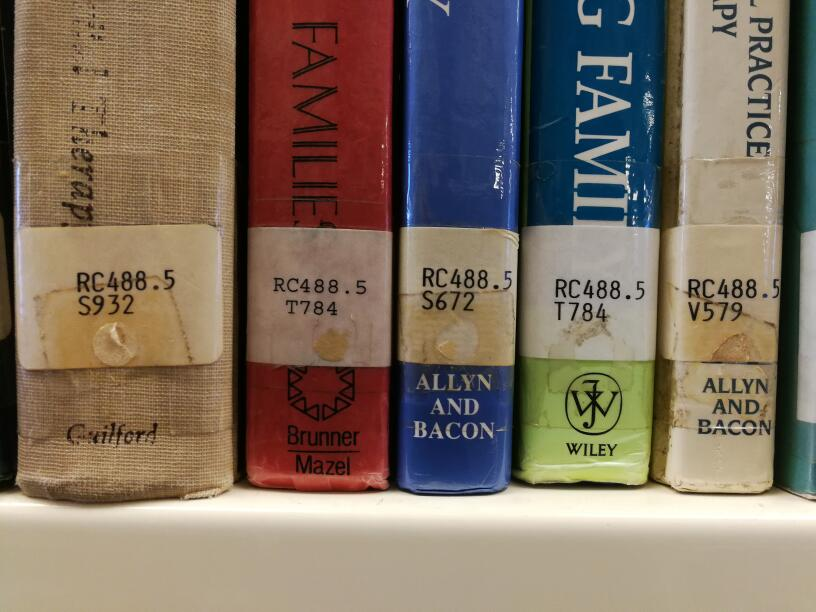booklabel: (73, 266, 176, 316), (683, 276, 782, 323), (419, 266, 512, 314), (553, 277, 646, 323), (272, 276, 368, 317)
